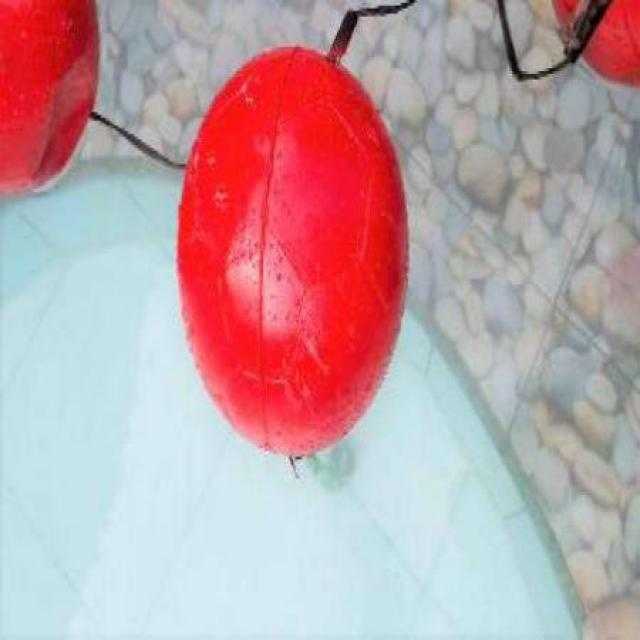buoy: (176, 43, 409, 454), (0, 1, 100, 196)
